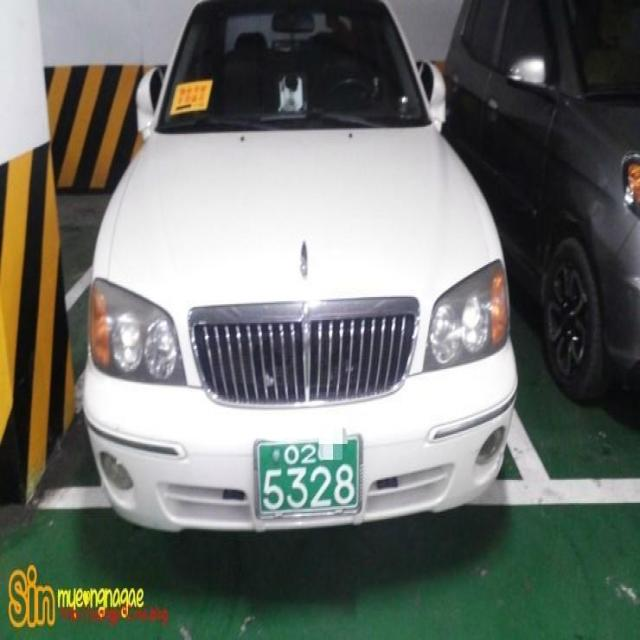car: (82, 0, 525, 542)
illegal_plate: (247, 433, 370, 527)
